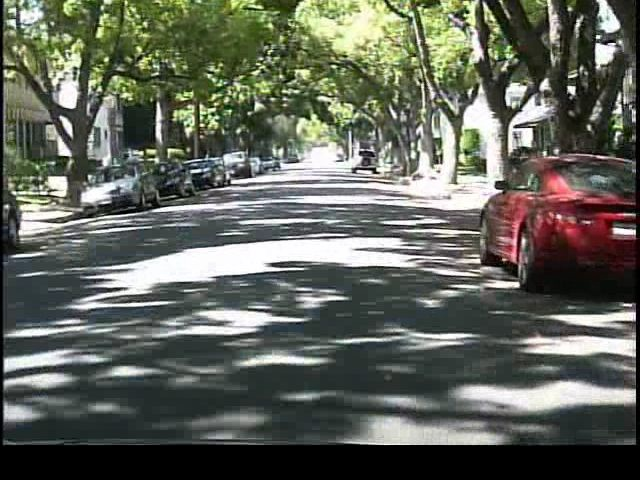person: (100, 145, 122, 196)
